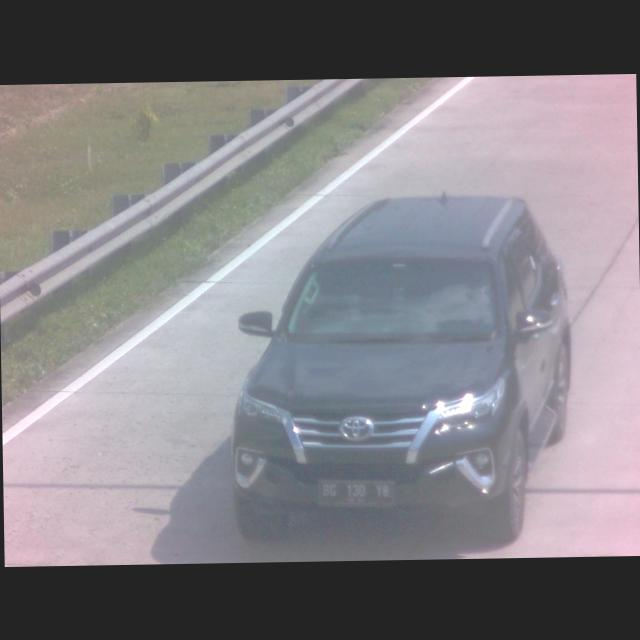plate: (314, 474, 400, 510)
